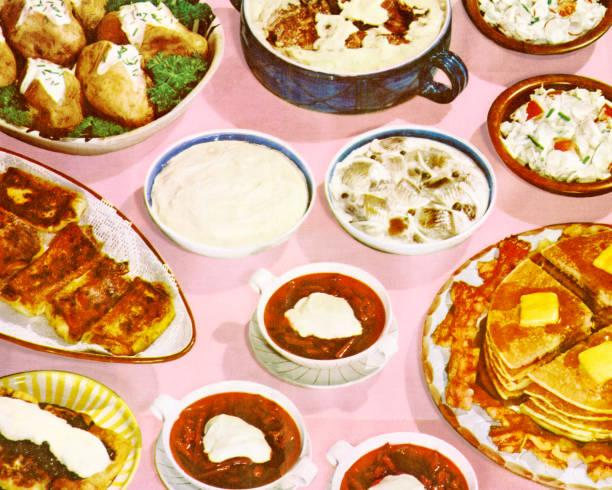Braised Crucian Carp: (423, 219, 612, 490), (3, 151, 189, 357), (3, 2, 221, 157), (324, 125, 492, 255), (144, 130, 308, 260), (244, 0, 449, 75), (486, 73, 607, 194)
